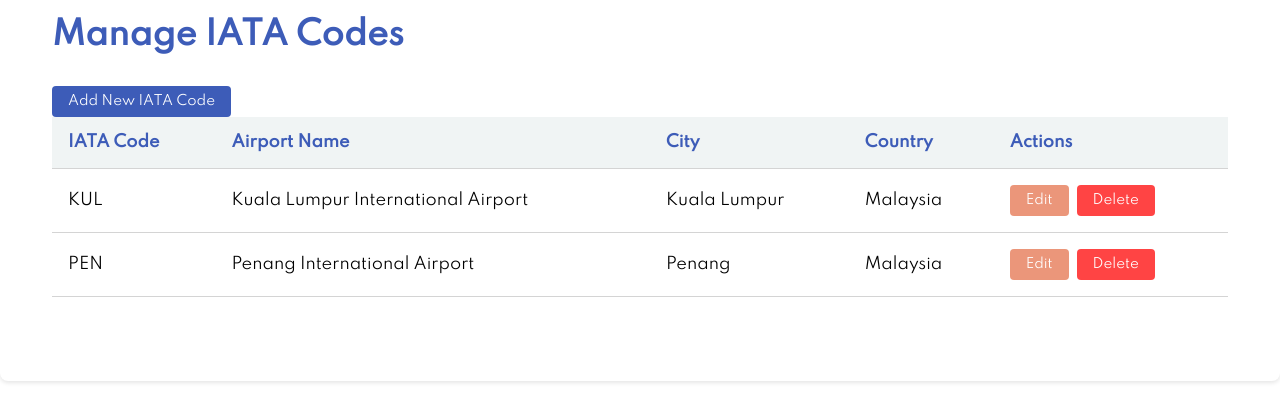
Test case: AdminAirports Component Integration Tests › should delete an IATA code
// Click delete button for first IATA code
Click the button with test id "delete-iata-1" at (1116, 200), box [1076,185,1155,216]
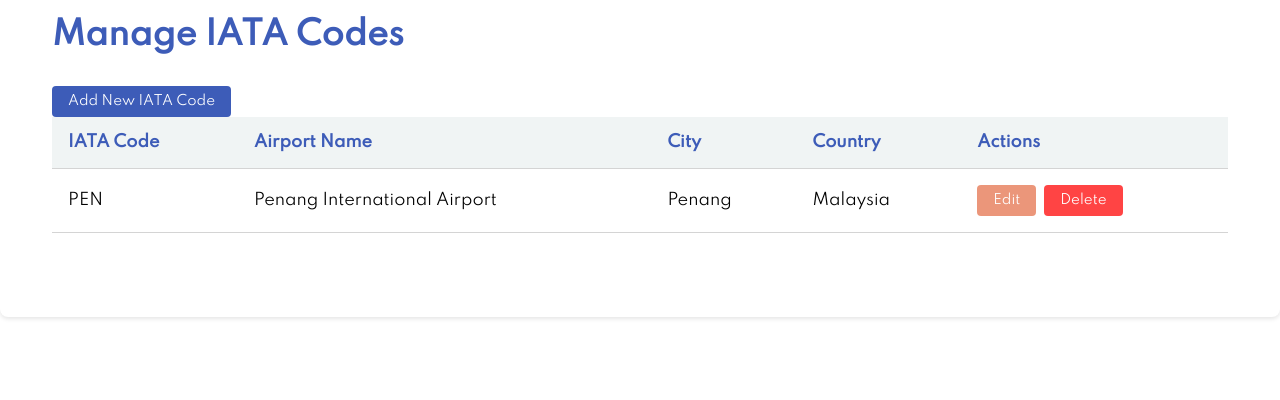
Expected: the number of rows is 2, [52,117,1228,168]; [52,168,1228,232]
Now the text "Kuala Lumpur International Airport" is gone
